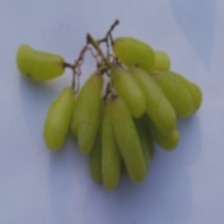grapes: (23, 37, 188, 188)
